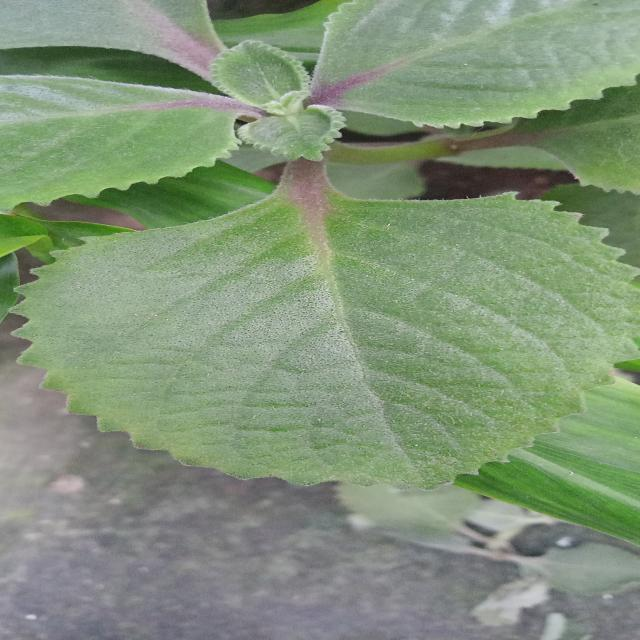Oregano: (4, 175, 640, 508)
